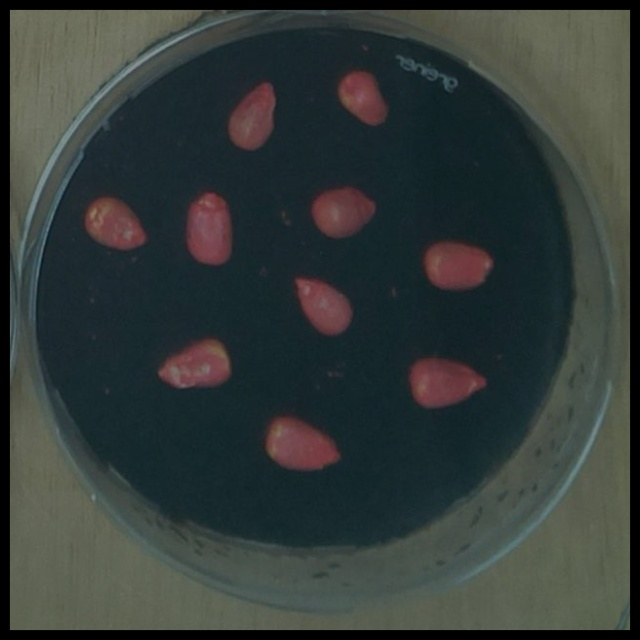Zea mays: (257, 408, 349, 478), (401, 348, 495, 414), (152, 331, 239, 397), (286, 266, 361, 342), (176, 183, 239, 272), (416, 232, 502, 297), (77, 186, 154, 256), (221, 73, 284, 155), (303, 181, 382, 246), (329, 62, 395, 135)
